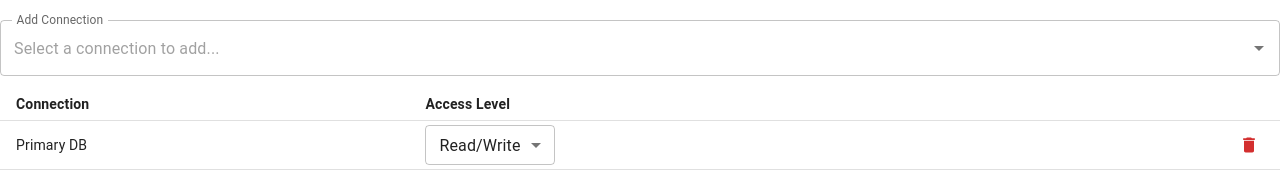
Scenario: ConnectionScopeEditor › does not offer a connection already in the scope
Focus the dropdown labelled "Add Connection" at (625, 48), box [9,29,1241,67]
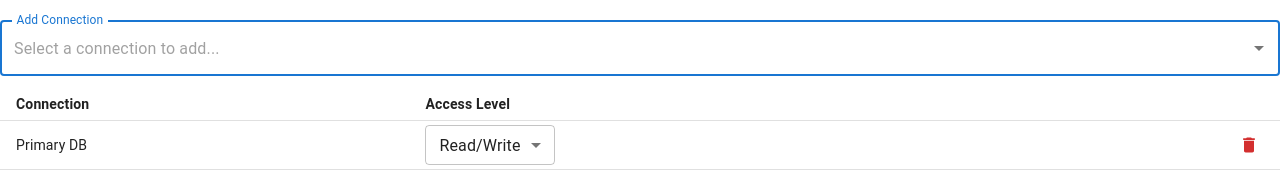
Press ArrowDown in the dropdown labelled "Add Connection", box [9,29,1241,67]
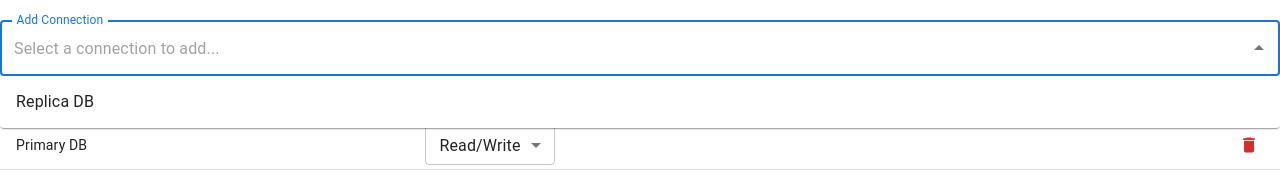
Expected: the option "Replica DB" is shown, [16,92,94,111]
